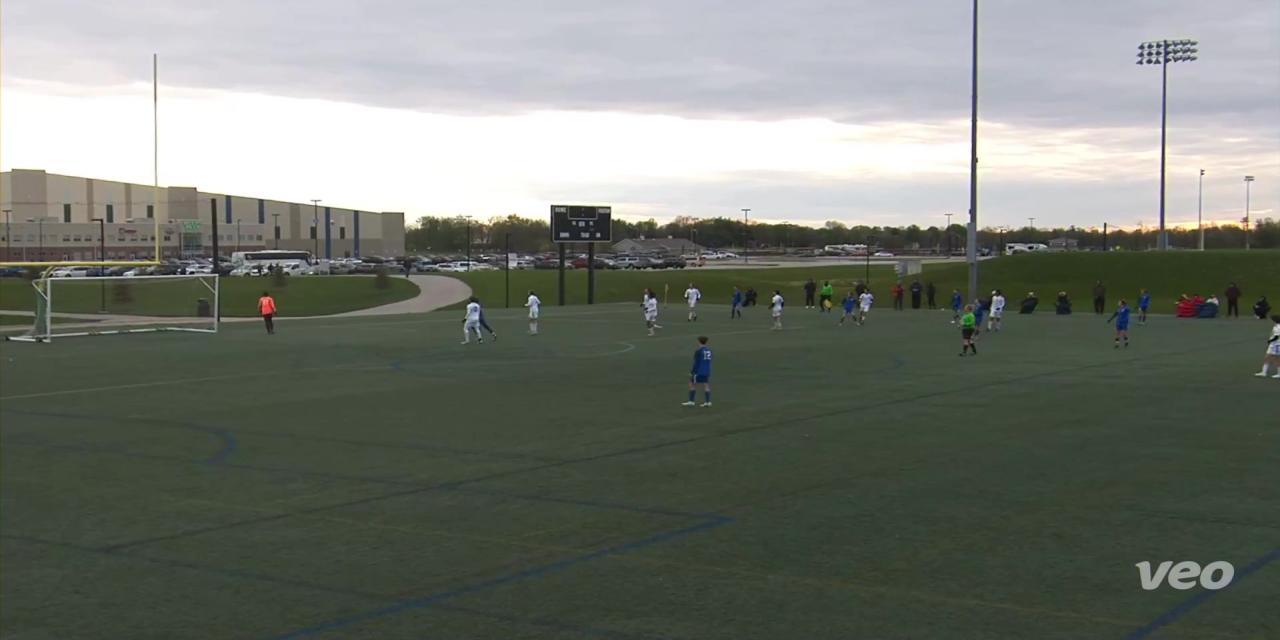goal: (2, 261, 240, 345)
